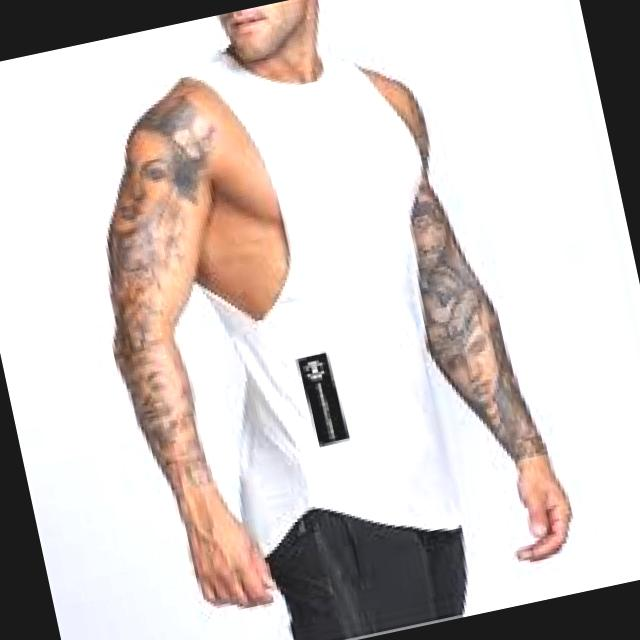no_vest: (144, 16, 497, 566)
